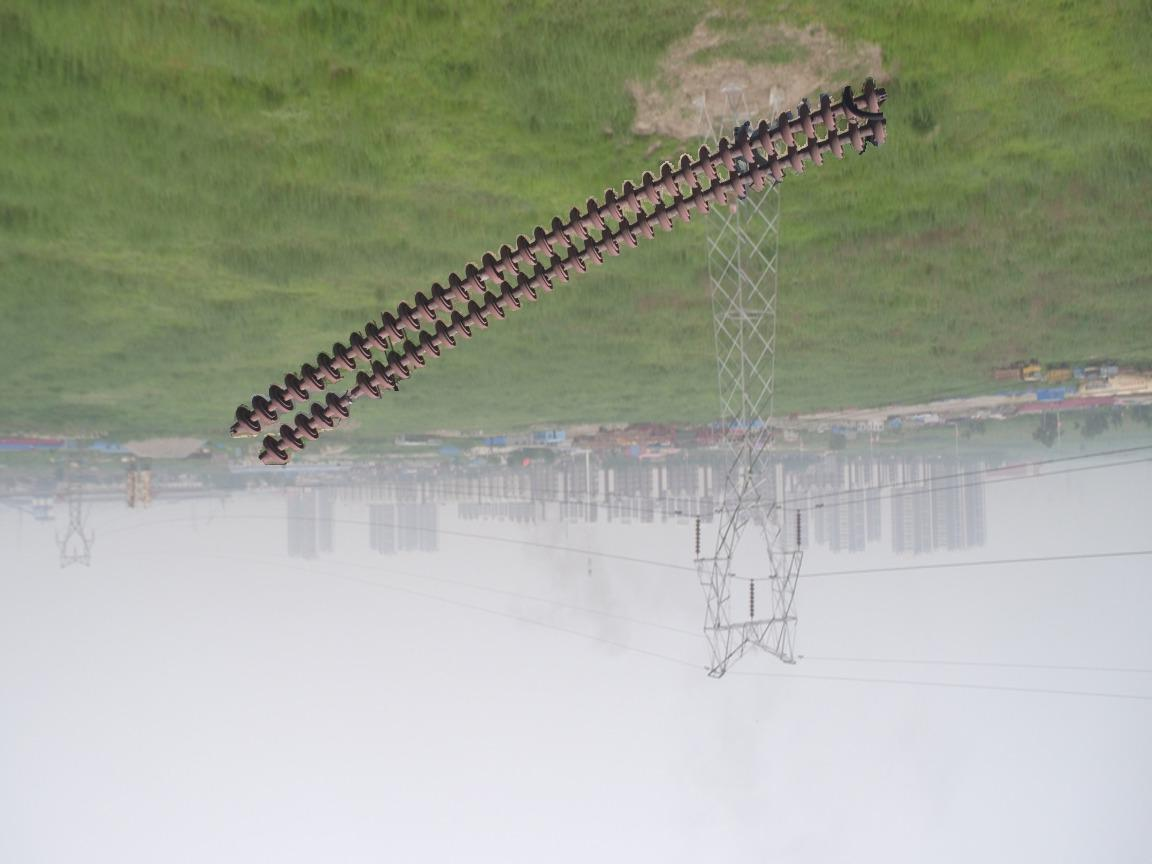insulator: (226, 70, 890, 470), (791, 507, 805, 549), (691, 516, 705, 556), (746, 579, 758, 619)
insulator_stringdrop: (323, 368, 383, 423)
